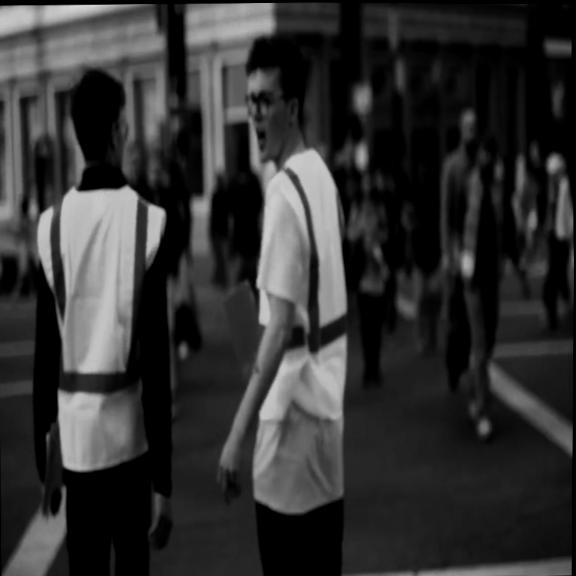safety_vest: (33, 179, 171, 473), (252, 145, 352, 429)
